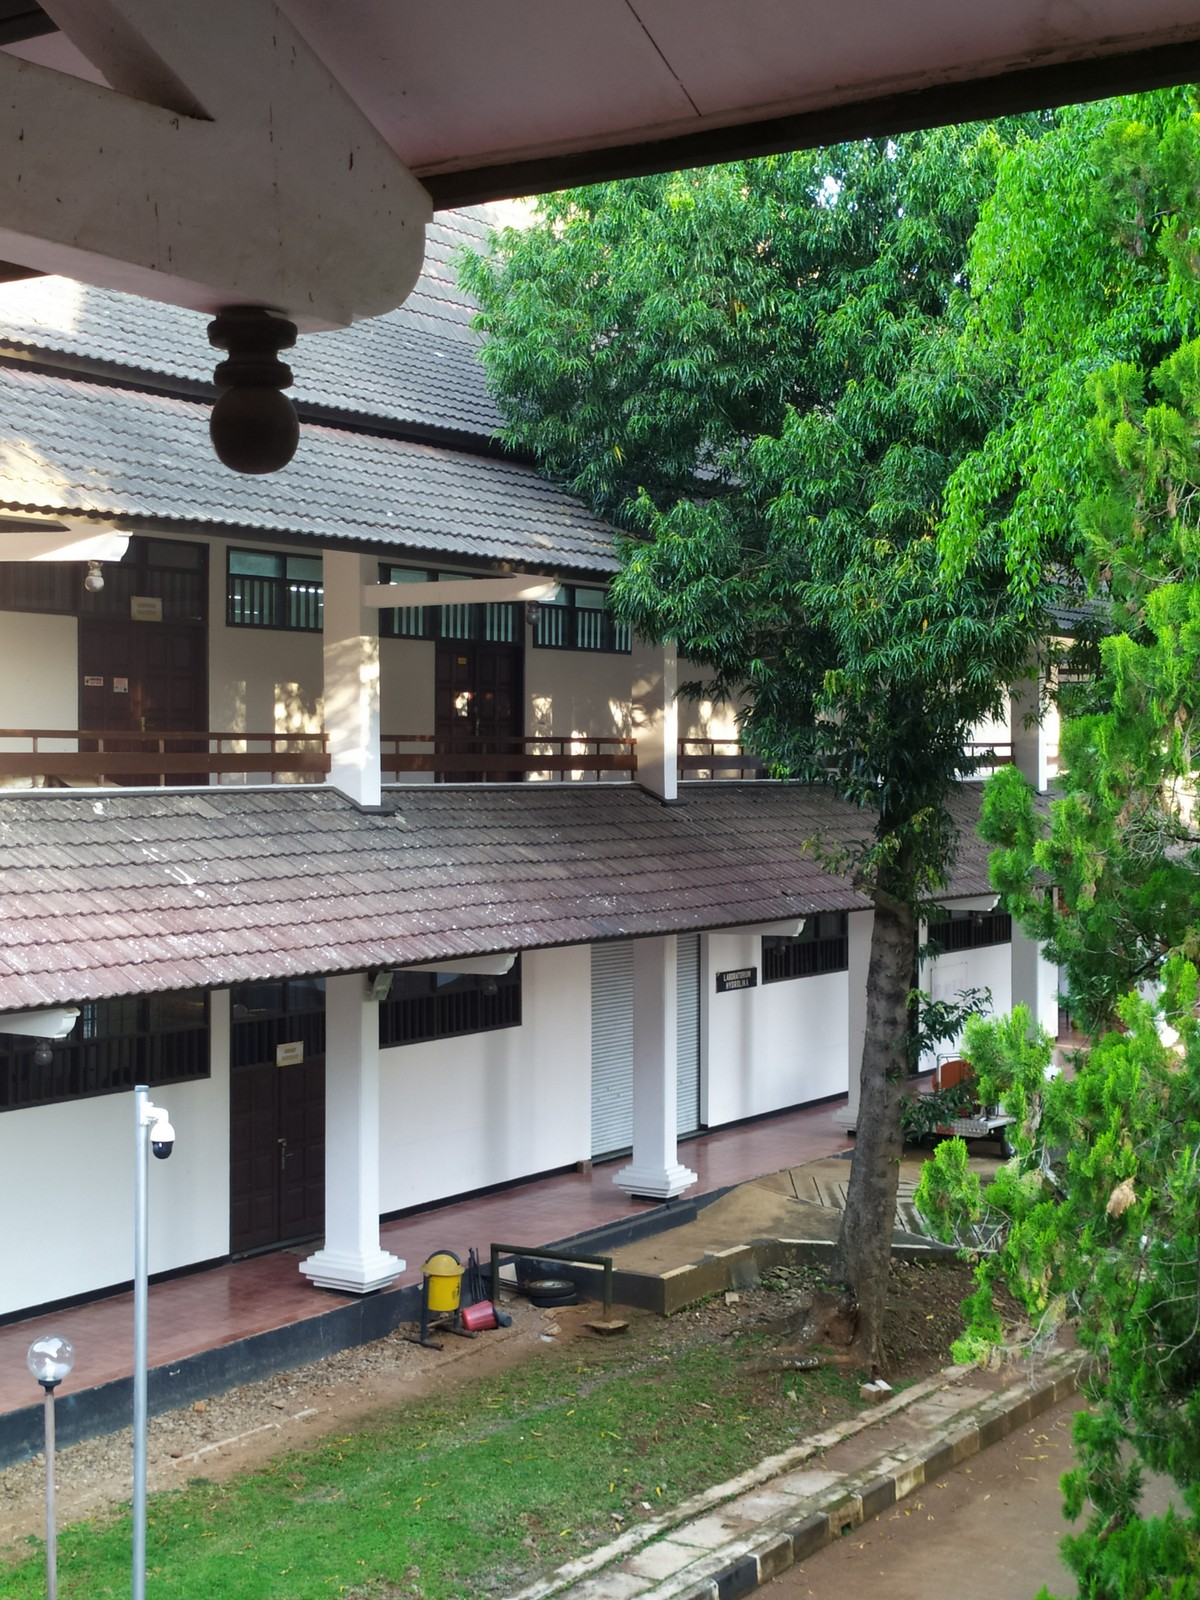concrete beam: (358, 574, 523, 619)
concrete column: (318, 976, 389, 1259), (318, 551, 395, 813), (626, 941, 687, 1175), (626, 603, 689, 805)
